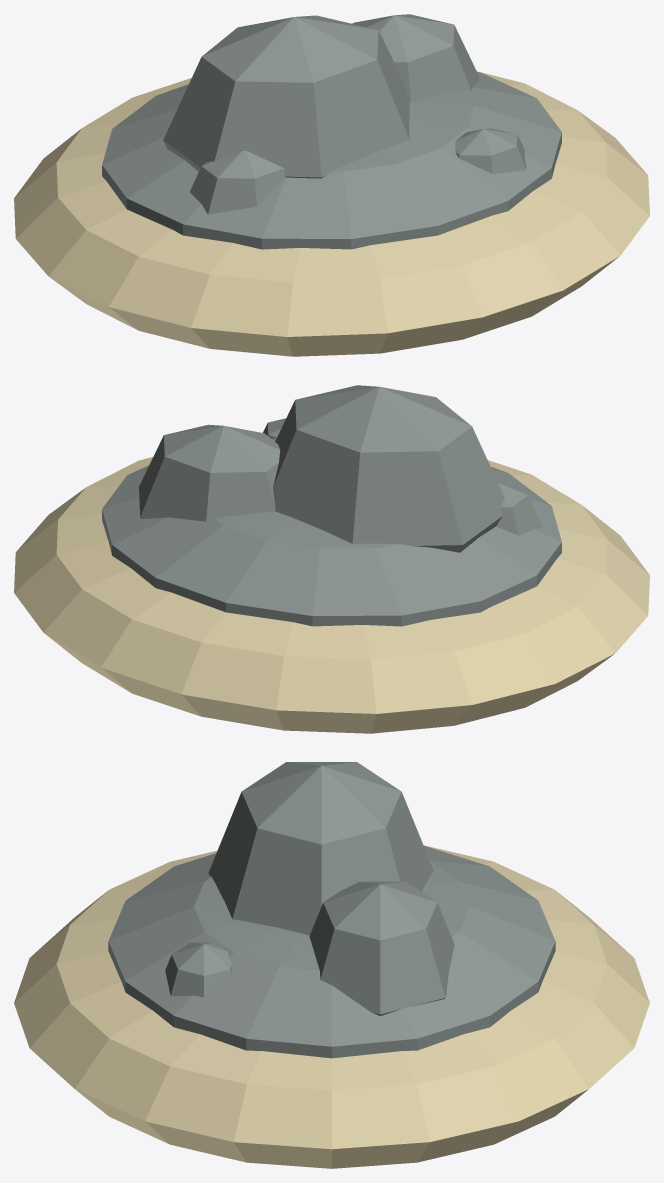
The model's file is island_module_crimson_coast.glb.
3 views of the same model, one above another, from view 1: azimuth 30°, elevation 25°; view 2: azimuth 150°, elevation 25°; view 3: azimuth 270°, elevation 25° (orthographic). The views are drawn at different scales.
Visible parts, largest first — view 1: island_rock; view 2: island_rock; view 3: island_rock.
Boxes of the visible parts, <box> form: island_rock: <box>14,14,649,356</box>; island_rock: <box>14,385,649,733</box>; island_rock: <box>14,762,649,1168</box>.
Bounding box in the file's own units: 2 × 0.938 × 1.84.
